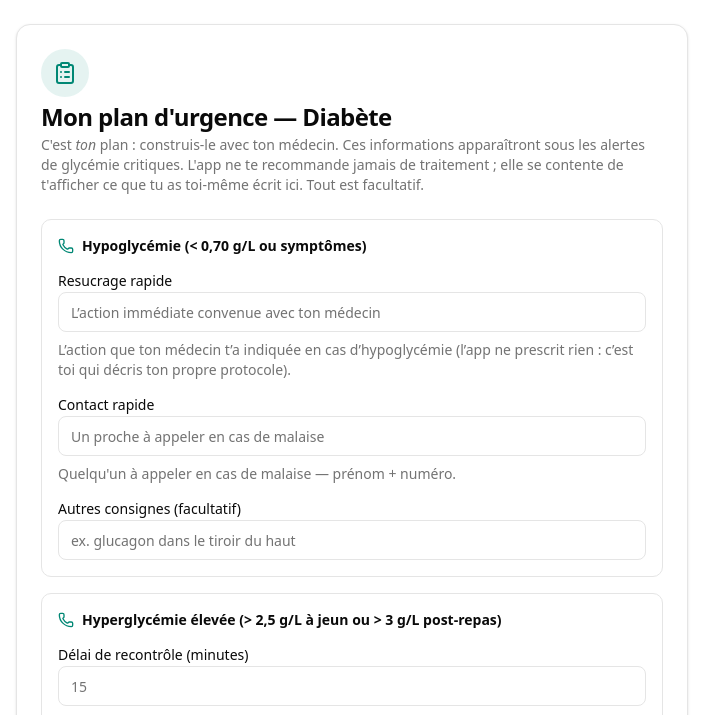
Test: <DiabetePlanUrgencePage /> › blocks submission when recheck minutes is out of range
In the number field labelled "Délai de recontrôle (minutes)": [352, 686] box 58,666 -> 646,706, type "200"
(page scrolled)
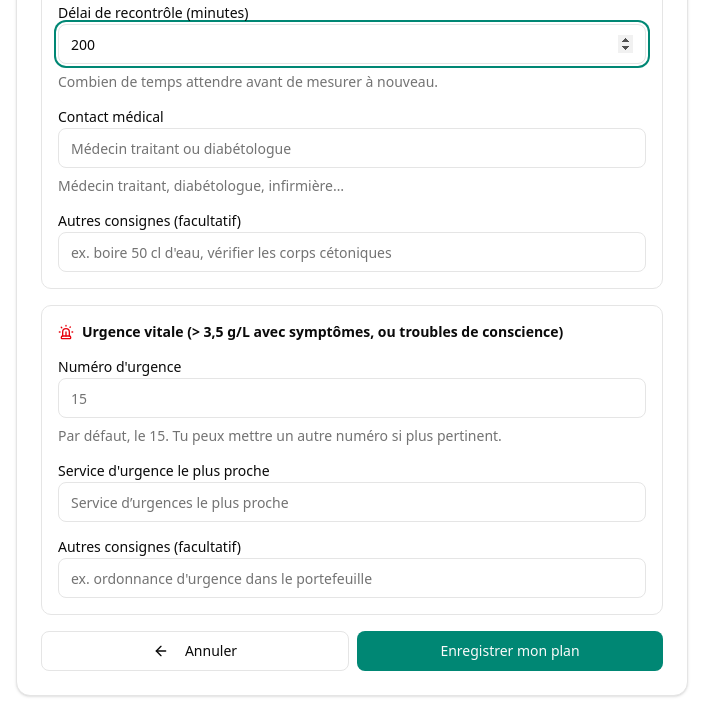
Click the button "Enregistrer mon plan": [510, 651] box 357,631 -> 663,671
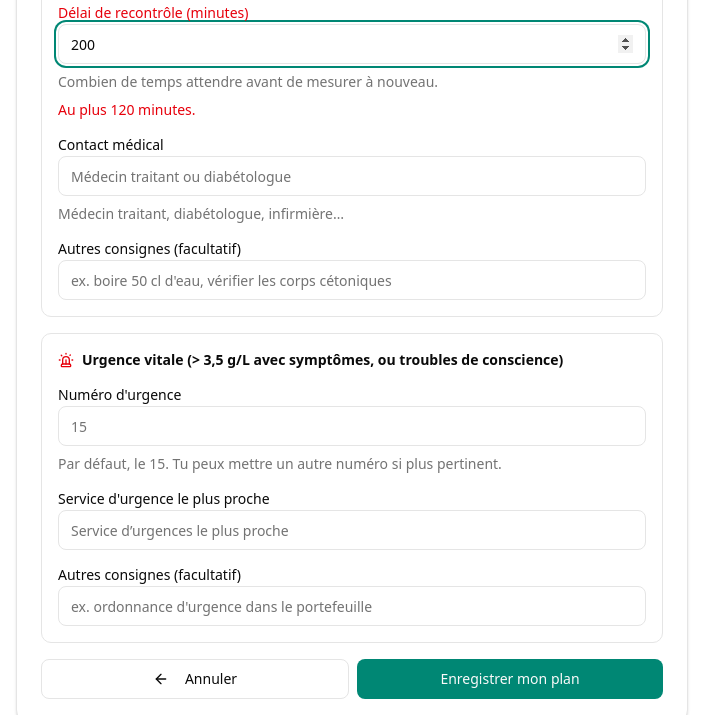
Expected: the text "Au plus 120 minutes." is shown, 58,100 -> 196,119
